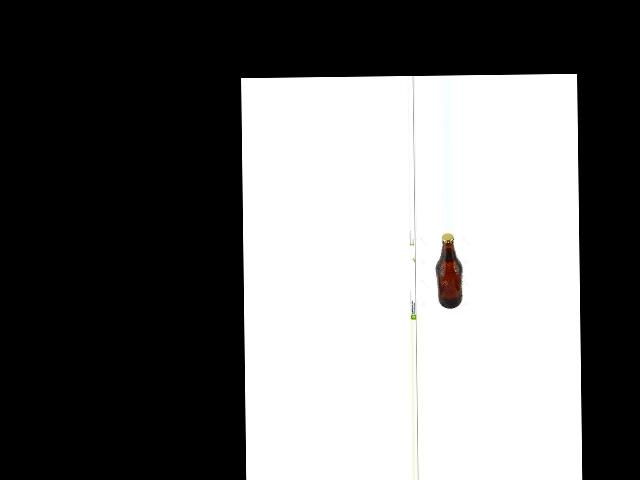beer: (435, 233, 462, 308)
